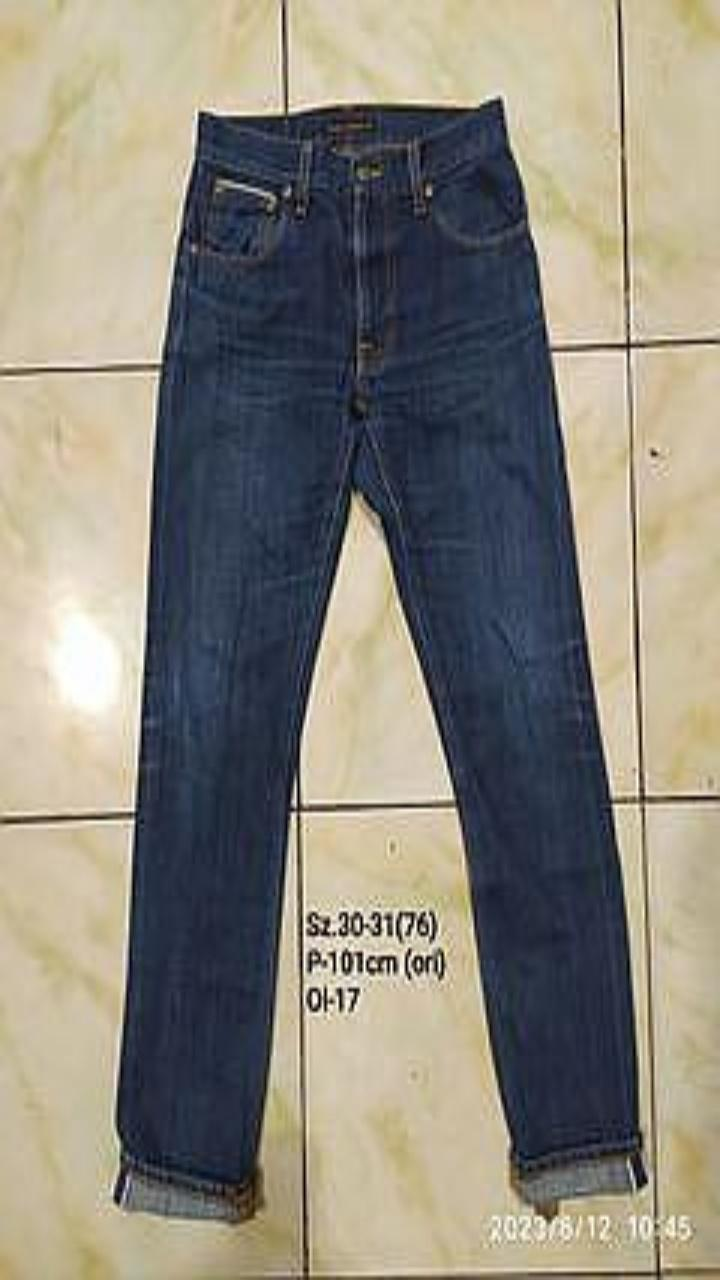Jeans: (113, 97, 646, 1221)
